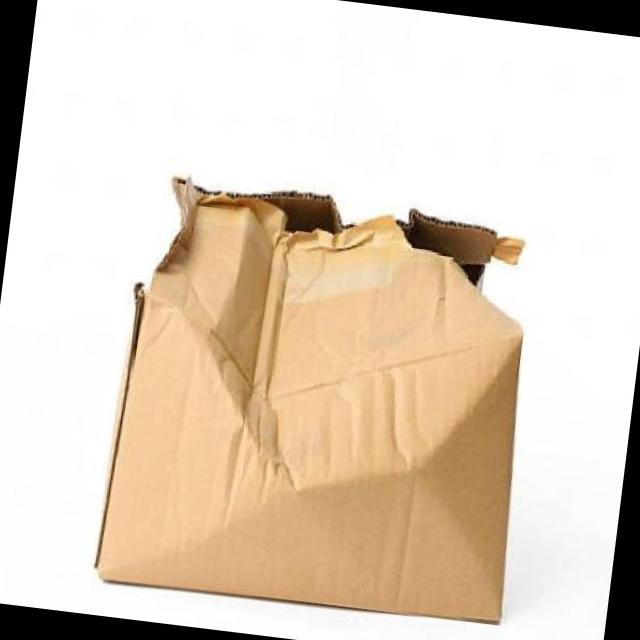box: (94, 174, 523, 627)
crushed: (173, 319, 514, 507)
opened: (111, 176, 527, 313)
